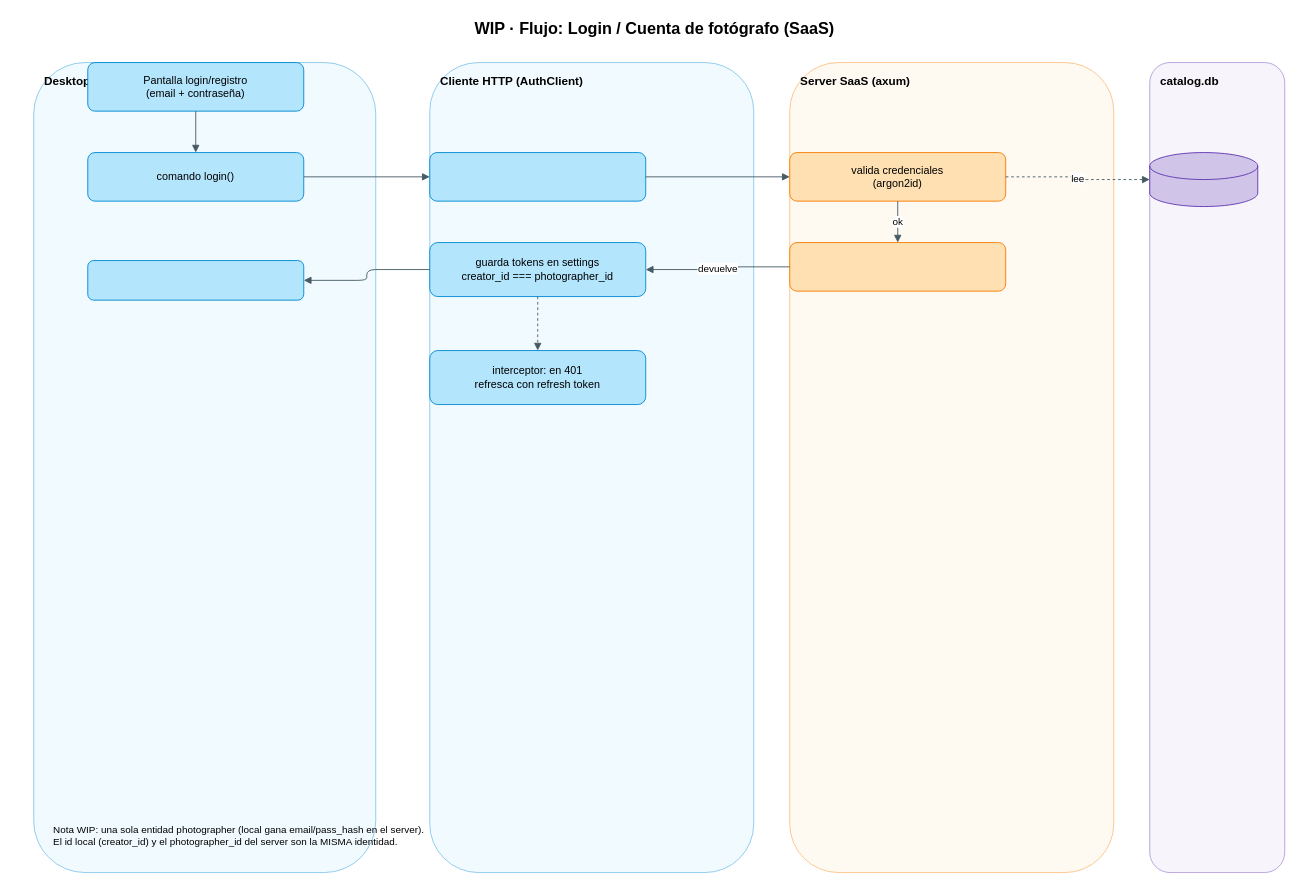
Image size: 1309x888. Some labels were removed from this diagram. The centre of each missing label's shape, as x and y in pixels:
emite JWT (access + refresh): point 897,266
photographer (email, pass_hash): point 1203,179
POST /v1/auth/login: point 537,176
sesión iniciada: point 195,280
